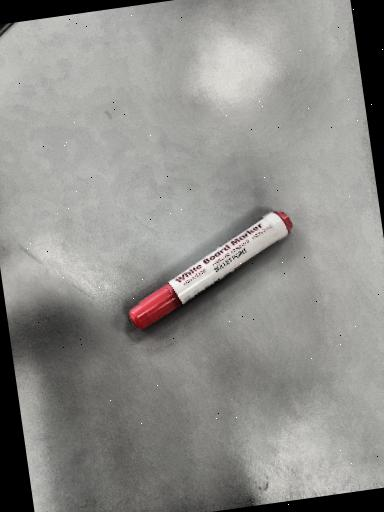marcador rojo: (129, 212, 291, 329)
